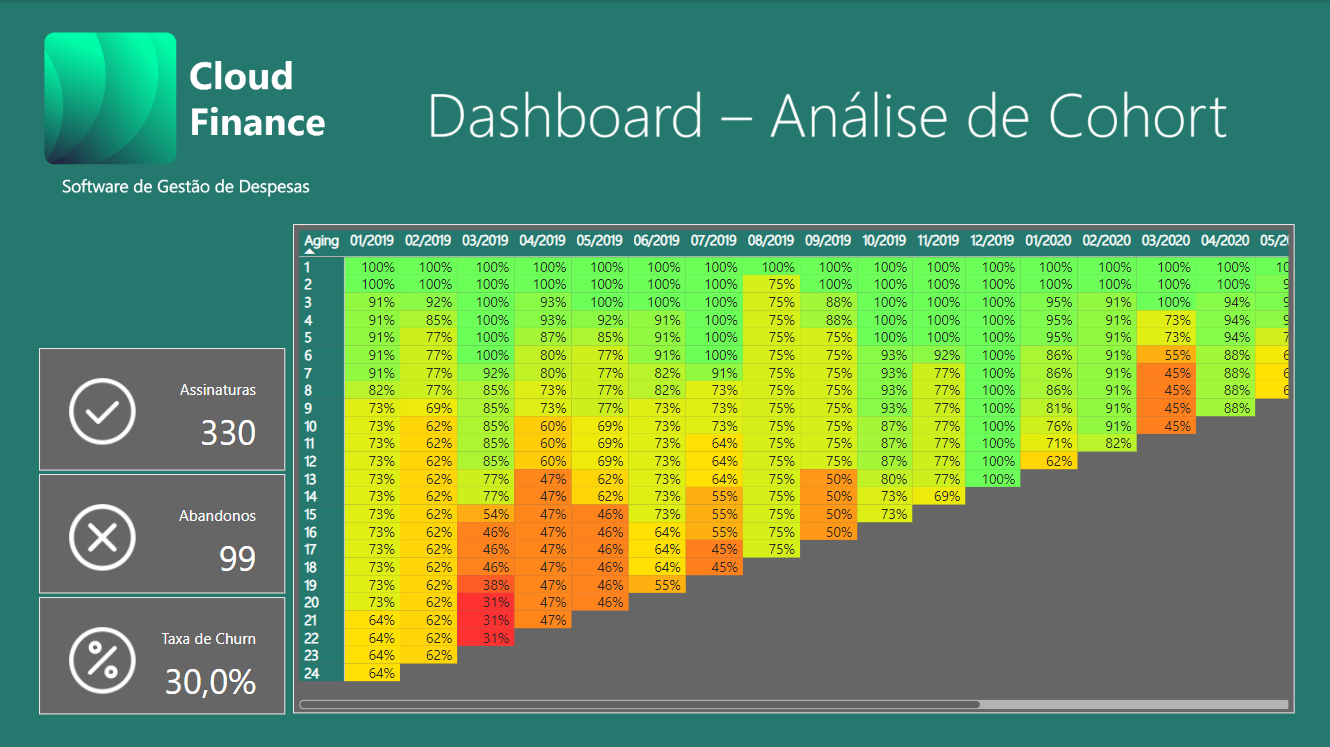

This screenshot's page, from the dashboard's own definition file:
{"tool":"powerbi","page":{"name":"Heatmap","canvas":[1280,720],"ordinal":0},"visuals":[{"type":"pivotTable","fields":{"Columns":["Calendario.Mês/Ano"],"Rows":["Aging.Aging"],"Values":["Dados Mes.Cohort"]},"box":[281.8,215.4,963.6,471.2],"z":0},{"type":"cardVisual","fields":{"Data":["Dados Mes.Assinaturas"]},"box":[37.5,334.7,236.6,118.3],"z":2000},{"type":"cardVisual","fields":{"Data":["Dados Mes.Abandonos"]},"box":[37.5,455.8,236.6,115.4],"z":3000},{"type":"cardVisual","fields":{"Data":["Dados Mes.Taxa de Churn"]},"box":[37.5,574.1,236.6,112.5],"z":4000},{"type":"image","box":[37.5,23.1,279.8,174.1],"z":5000},{"type":"image","box":[407.8,36.5,779,146.2],"z":6000},{"type":"slicer","title":"Trimestre","fields":{"Values":["Dados Mes.Trimestre"]},"box":[37.5,215.6,236.8,116.5],"z":6001}]}

Visuals, with their boxes in screenshot pixels (x1, y1, x2, y2), scaled from the page's 1280x720 canvas onto the 1330x747 screenshot:
pivotTable - Calendario.Mês/Ano x Aging.Aging: {"left": 293, "top": 223, "right": 1294, "bottom": 712}
cardVisual - Dados Mes.Assinaturas: {"left": 39, "top": 347, "right": 285, "bottom": 470}
cardVisual - Dados Mes.Abandonos: {"left": 39, "top": 473, "right": 285, "bottom": 593}
cardVisual - Dados Mes.Taxa de Churn: {"left": 39, "top": 596, "right": 285, "bottom": 712}
image: {"left": 39, "top": 24, "right": 330, "bottom": 205}
image: {"left": 424, "top": 38, "right": 1233, "bottom": 190}
"Trimestre" slicer: {"left": 39, "top": 224, "right": 285, "bottom": 345}
